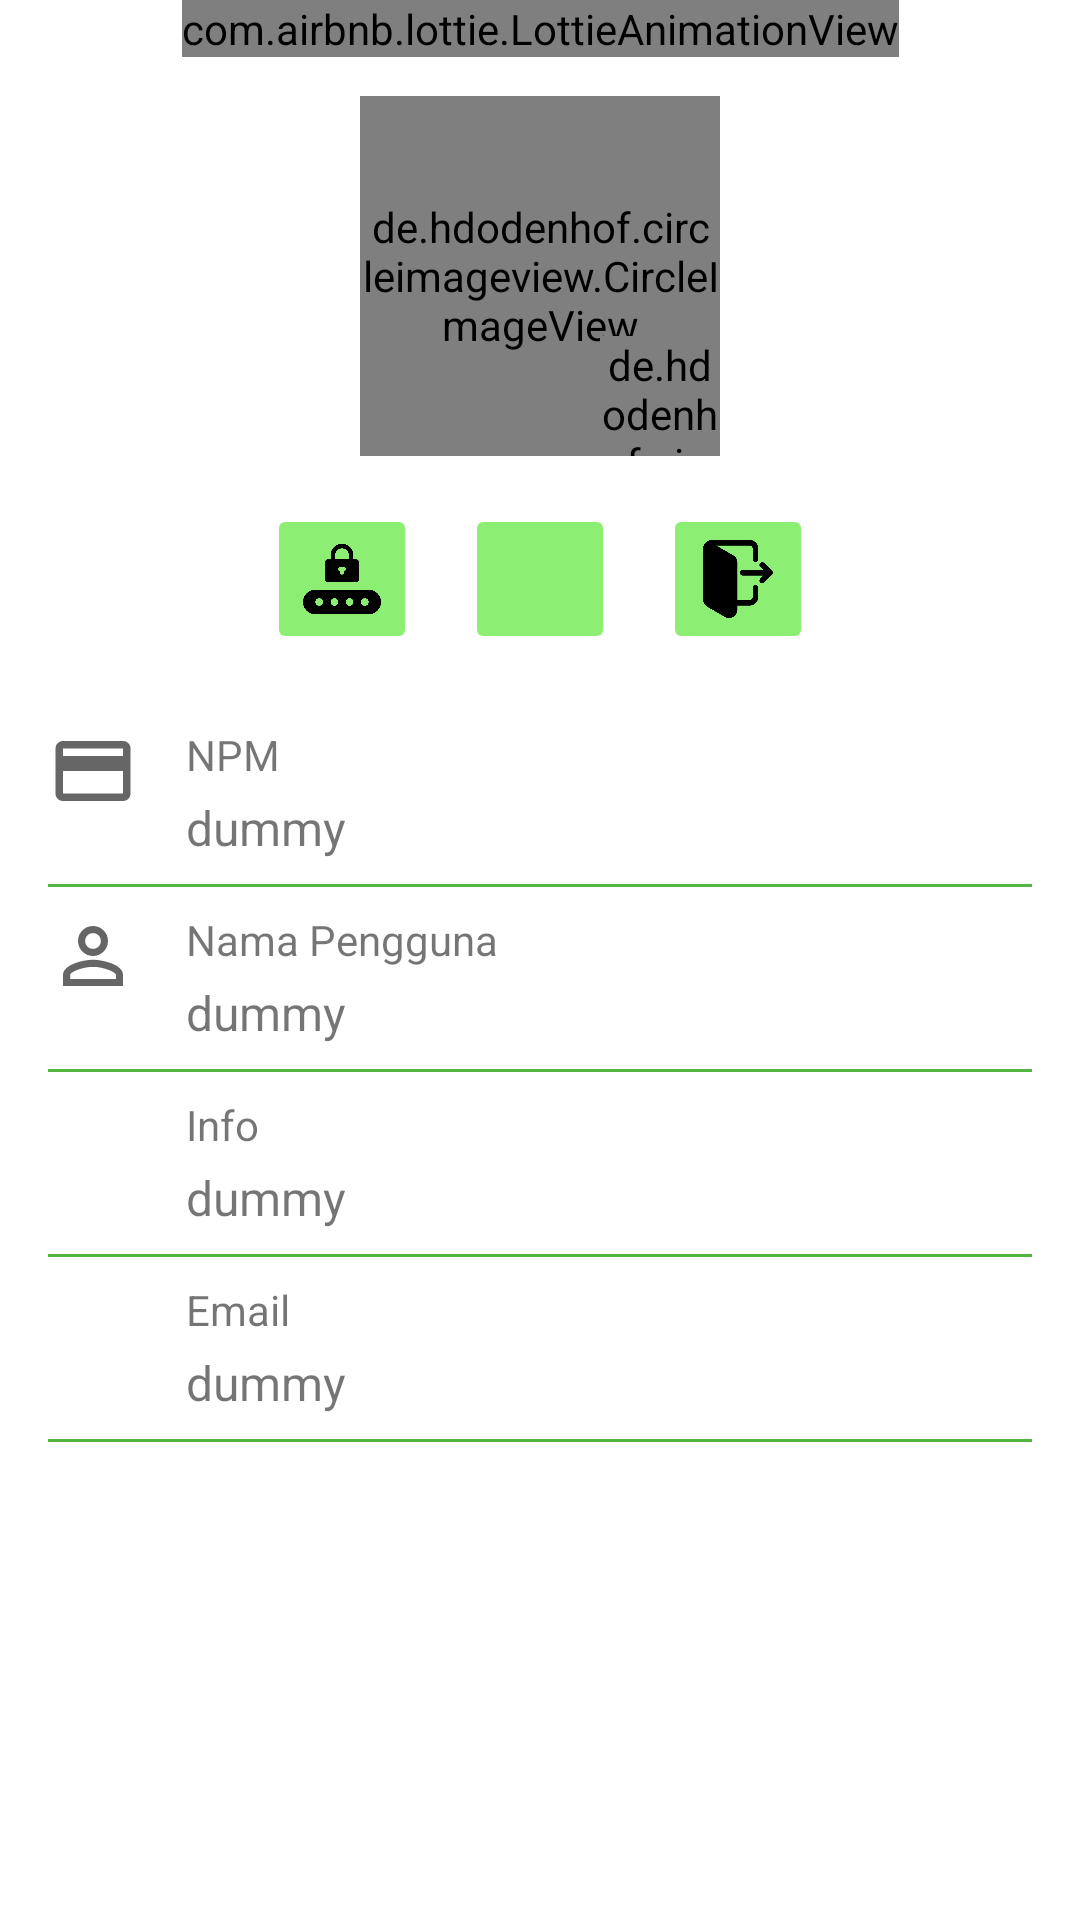

Point at icon controls on the screen. Image size 1080×1920, points as (x=x, y=y).
credit card: (x=93, y=771)
password: (x=342, y=579)
person: (x=93, y=956)
